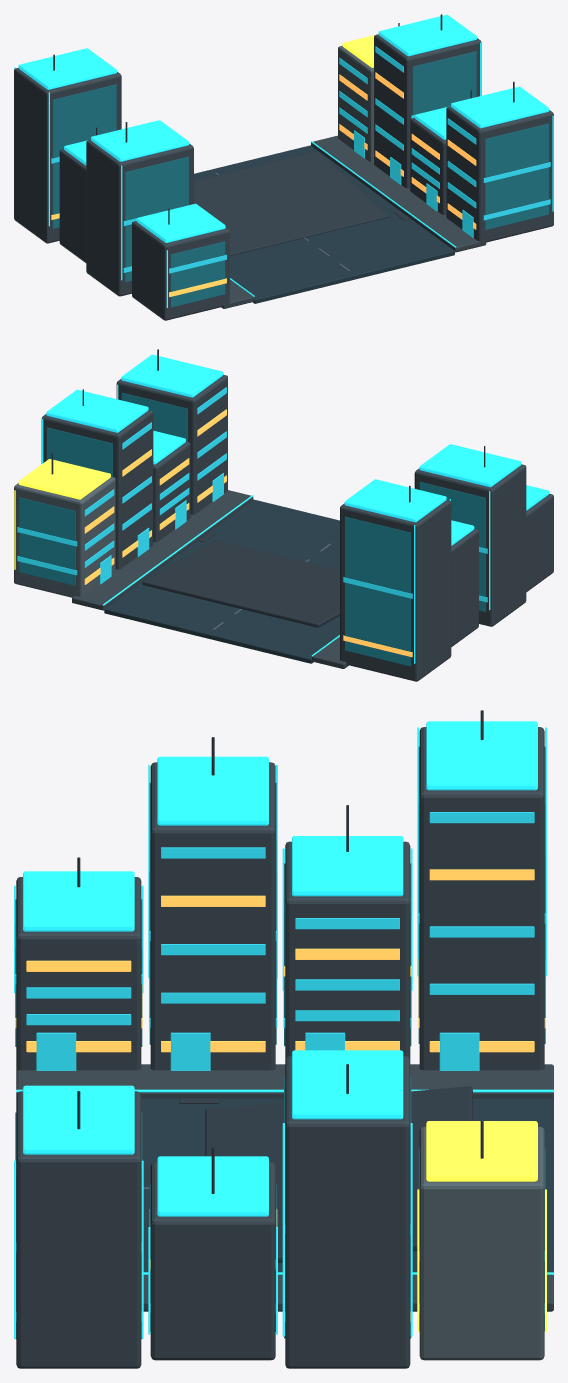
Rendered from ramp_up_lod0.glb.
The picture shows the model from 3 angles, top to bottom: view 1: azimuth 30°, elevation 25°; view 2: azimuth 150°, elevation 25°; view 3: azimuth 270°, elevation 25°; orthographic projection. The views are drawn at different scales.
Parts seen in each view (by area): view 1: ND_Batch_ND_CityConcrete, ND_Batch_ND_DarkGlass, ND_Batch_ND_CityCyanMuted, ND_Batch_ND_RooftopMetal, ND_Batch_ND_WetAsphalt, ND_Batch_ND_NeonGlass, ND_Batch_ND_RoadEdge, ND_Batch_ND_CityConcreteLight, ND_Batch_ND_WarmWindow, ND_Batch_ND_PackageGold; view 2: ND_Batch_ND_CityConcrete, ND_Batch_ND_DarkGlass, ND_Batch_ND_WetAsphalt, ND_Batch_ND_CityCyanMuted, ND_Batch_ND_RooftopMetal, ND_Batch_ND_CityConcreteLight, ND_Batch_ND_RoadEdge, ND_Batch_ND_NeonGlass, ND_Batch_ND_PackageGold, ND_Batch_ND_WarmWindow; view 3: ND_Batch_ND_CityConcrete, ND_Batch_ND_CityCyanMuted, ND_Batch_ND_CityConcreteLight, ND_Batch_ND_NeonGlass, ND_Batch_ND_RoadEdge, ND_Batch_ND_RooftopMetal, ND_Batch_ND_WarmWindow, ND_Batch_ND_WetAsphalt, ND_Batch_ND_PackageGold, ND_Batch_ND_DarkGlass.
Part boxes in pixels (x1,y1,x2,y2): ND_Batch_ND_CityConcrete: [14, 34, 553, 320]; ND_Batch_ND_DarkGlass: [52, 51, 548, 307]; ND_Batch_ND_CityCyanMuted: [14, 14, 553, 307]; ND_Batch_ND_RooftopMetal: [53, 14, 514, 256]; ND_Batch_ND_WetAsphalt: [194, 145, 454, 303]; ND_Batch_ND_NeonGlass: [51, 46, 550, 273]; ND_Batch_ND_RoadEdge: [221, 135, 486, 308]; ND_Batch_ND_CityConcreteLight: [215, 45, 373, 271]; ND_Batch_ND_WarmWindow: [51, 72, 476, 297]; ND_Batch_ND_PackageGold: [342, 35, 374, 67]; ND_Batch_ND_CityConcrete: [41, 374, 553, 681]; ND_Batch_ND_DarkGlass: [19, 392, 485, 666]; ND_Batch_ND_WetAsphalt: [104, 499, 339, 663]; ND_Batch_ND_CityCyanMuted: [42, 354, 549, 663]; ND_Batch_ND_RooftopMetal: [51, 349, 485, 627]; ND_Batch_ND_CityConcreteLight: [14, 476, 331, 629]; ND_Batch_ND_RoadEdge: [72, 490, 348, 668]; ND_Batch_ND_NeonGlass: [17, 387, 487, 602]; ND_Batch_ND_PackageGold: [14, 459, 110, 569]; ND_Batch_ND_WarmWindow: [84, 409, 412, 657]; ND_Batch_ND_CityConcrete: [16, 727, 544, 1368]; ND_Batch_ND_CityCyanMuted: [14, 721, 553, 1338]; ND_Batch_ND_CityConcreteLight: [143, 1126, 544, 1360]; ND_Batch_ND_NeonGlass: [15, 812, 545, 1321]; ND_Batch_ND_RoadEdge: [16, 1064, 553, 1311]; ND_Batch_ND_RooftopMetal: [77, 710, 483, 1262]; ND_Batch_ND_WarmWindow: [15, 869, 545, 1321]; ND_Batch_ND_WetAsphalt: [141, 1098, 553, 1275]; ND_Batch_ND_PackageGold: [417, 1121, 546, 1332]; ND_Batch_ND_DarkGlass: [15, 747, 545, 1338].
Bounding box in the file's own units: 31.9 × 13.43 × 20.09.
